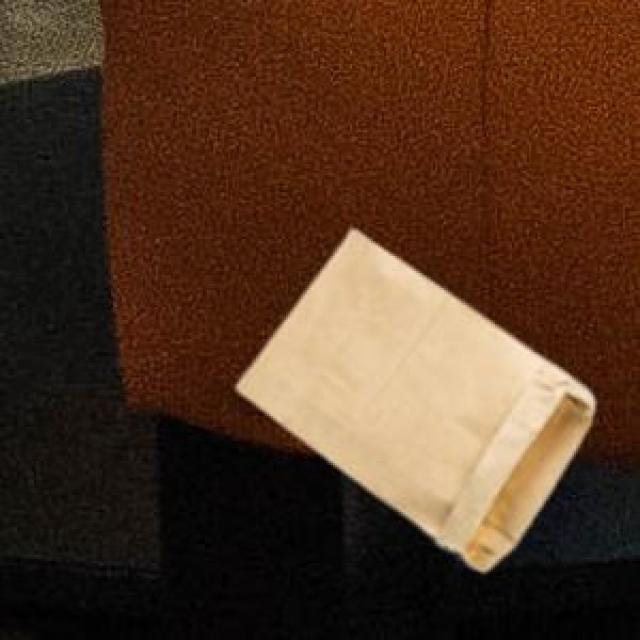paper: (233, 226, 589, 568)
